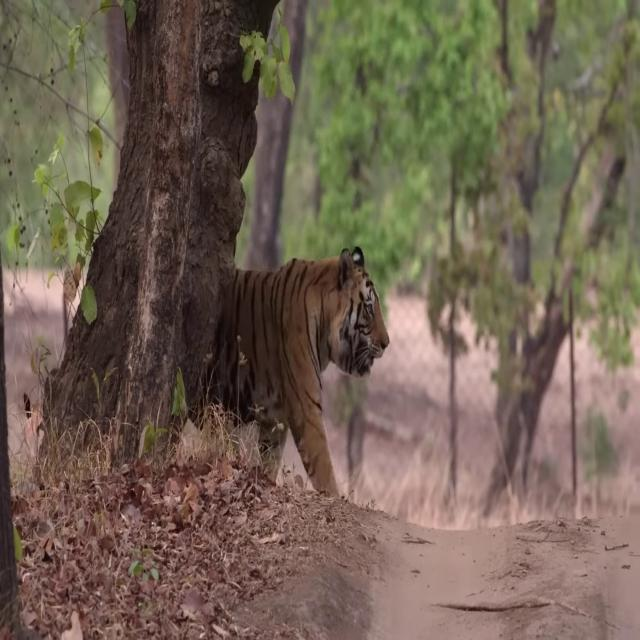tiger: (234, 242, 390, 502)
